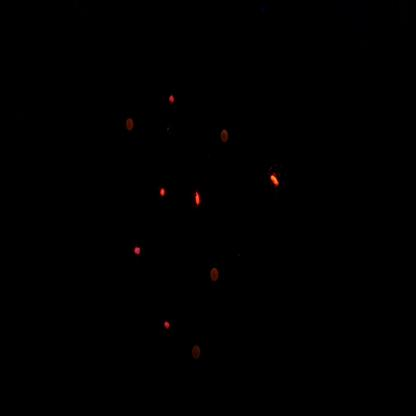PET: (126, 232, 150, 270), (157, 309, 181, 346), (162, 82, 184, 117)
PS: (207, 258, 225, 293), (187, 336, 206, 369), (121, 114, 139, 138), (219, 123, 234, 151)
PVC: (263, 162, 288, 202), (150, 174, 173, 215), (191, 182, 210, 214)
